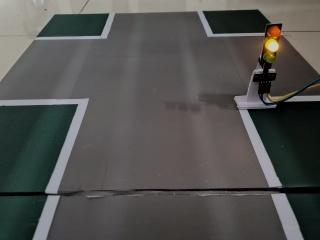yellow: (254, 18, 293, 74)
